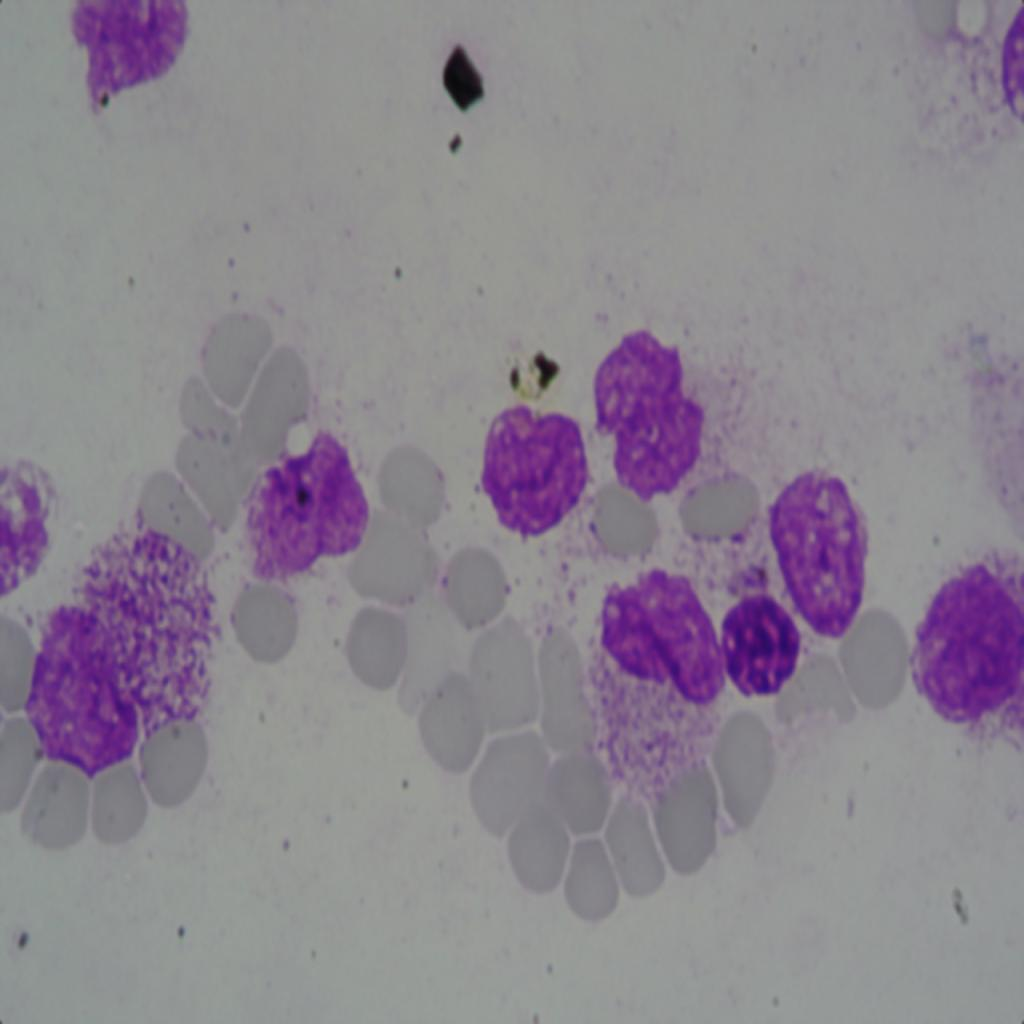Myeoblast: (584, 312, 718, 501), (238, 417, 384, 590), (22, 601, 151, 783), (476, 381, 602, 556), (912, 552, 1023, 741), (768, 455, 869, 645), (598, 574, 718, 718), (714, 593, 809, 725)
